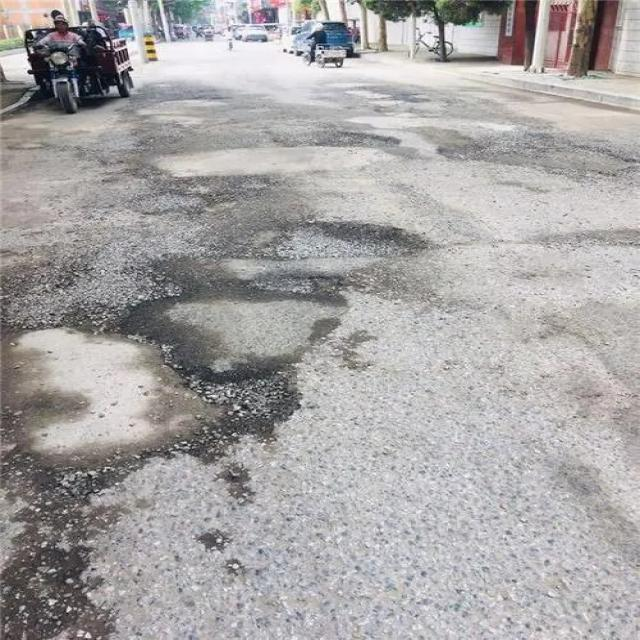pothole: (10, 320, 275, 487), (143, 213, 429, 281), (149, 129, 401, 181), (462, 143, 639, 186), (135, 98, 217, 122)
